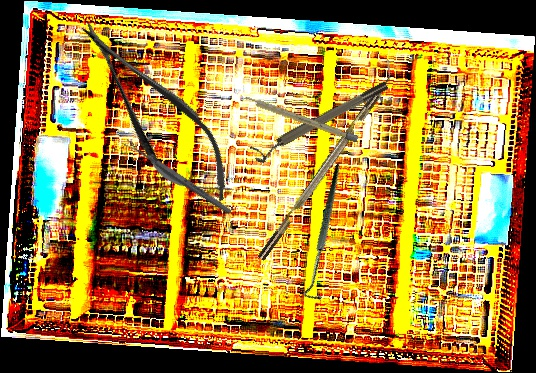Chopper: (248, 58, 403, 262)
Fixation Ring: (249, 79, 393, 165)
Hook Surgical: (258, 162, 396, 306)
Micro Scissor: (59, 1, 251, 222)
Scalpel Handle: (241, 94, 359, 143)
Surgical Spoon: (123, 138, 233, 216)
